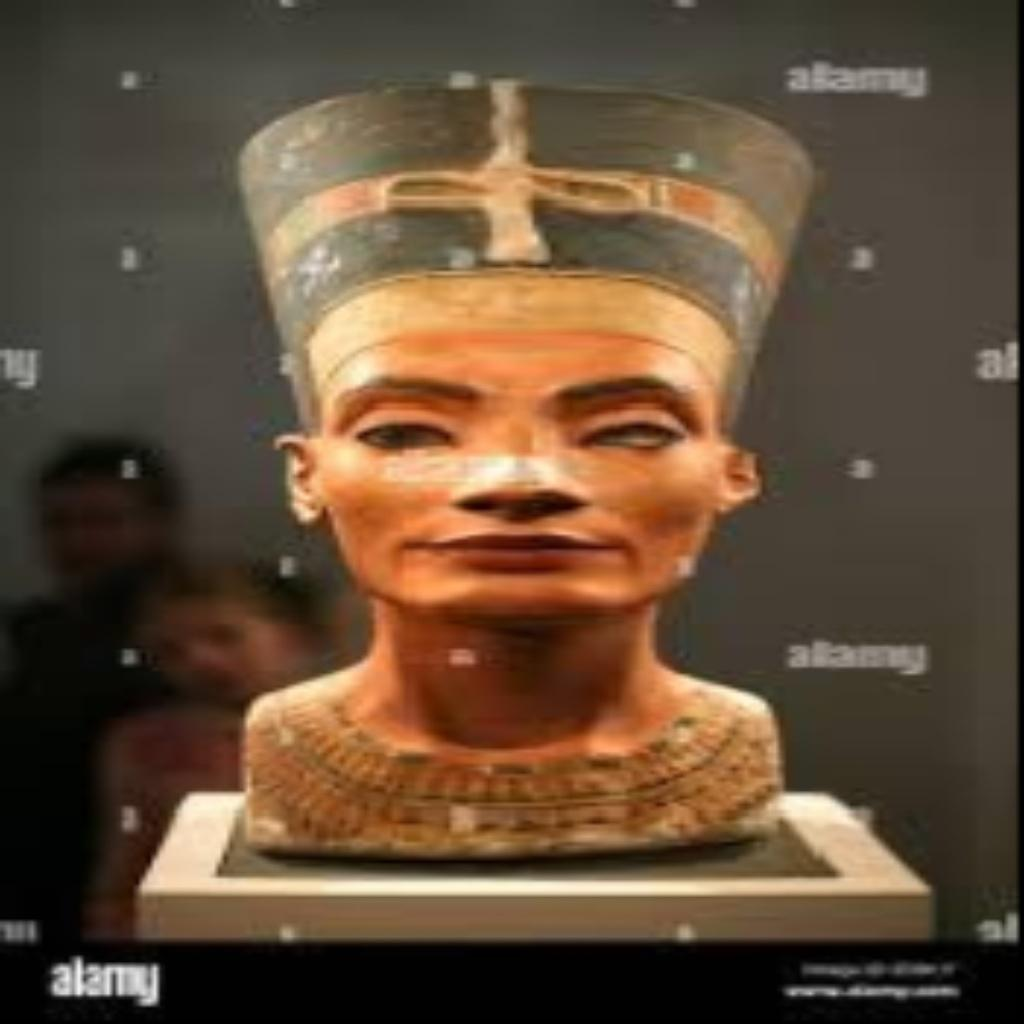Nefertiti: (228, 86, 825, 860)
